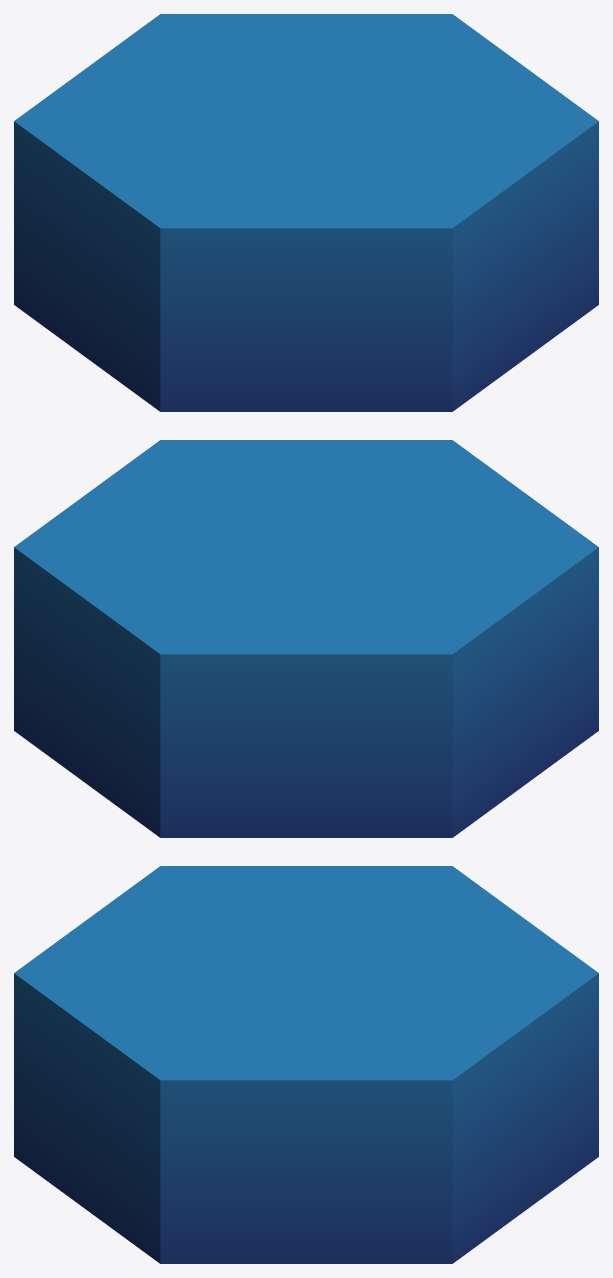
File: b_hexa_sol_eau.glb
3 renders of one model, top to bottom at view 1: azimuth 30°, elevation 25°; view 2: azimuth 150°, elevation 25°; view 3: azimuth 270°, elevation 25°, orthographic.
Visible parts, largest first — view 1: b_hexa_sol_eau; view 2: b_hexa_sol_eau; view 3: b_hexa_sol_eau.
Part boxes in pixels (left/top/right/bottom): b_hexa_sol_eau: left=14, top=14, right=598, bottom=411; b_hexa_sol_eau: left=14, top=440, right=598, bottom=837; b_hexa_sol_eau: left=14, top=866, right=598, bottom=1263.
Bounding box in the file's own units: 2 × 0.7999 × 2.31.
1 material, 1 textured.
